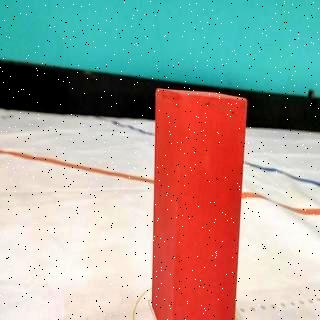redbox: (154, 88, 247, 320)
